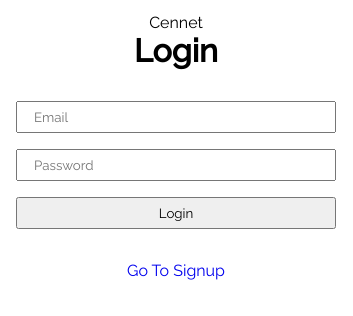
Test: empty spec › not found account
The image size is (353, 316).
In the field with placeholder "Email": (176, 117) left=16, top=101, right=336, bottom=133, type "noneuser@gmail.com"
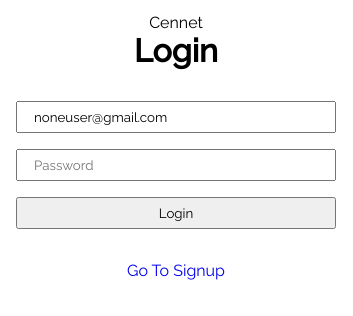
In the password field with placeholder "Password": (176, 165) left=16, top=149, right=336, bottom=181, type "nonepassword"
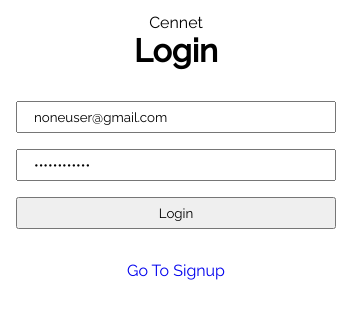
Click the button with test id "login-btn": (176, 213) left=16, top=197, right=336, bottom=229
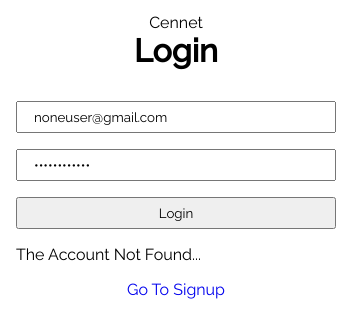
Expected: the text "The Account Not Found..." is shown, left=16, top=245, right=201, bottom=264
